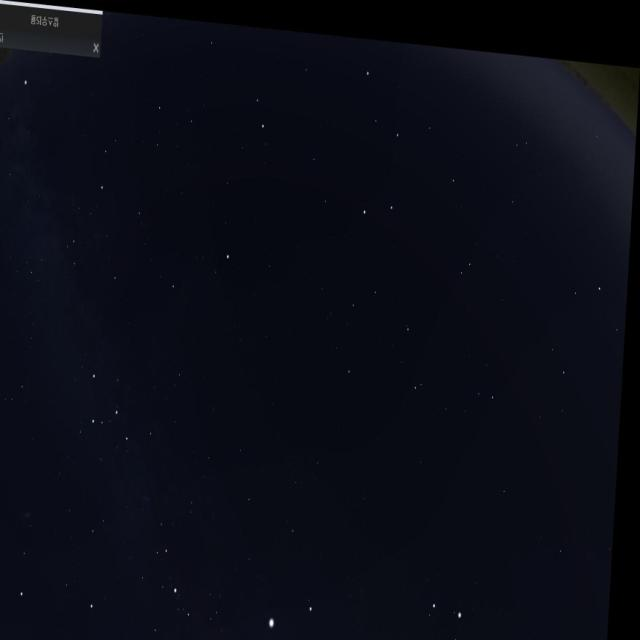ursa_major: (338, 29, 435, 224)
